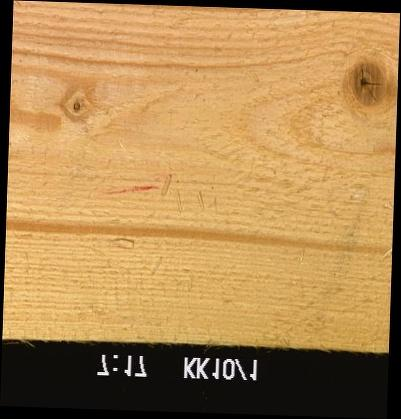dry_knot: (69, 100, 83, 112)
sound_knot: (346, 59, 386, 109)
